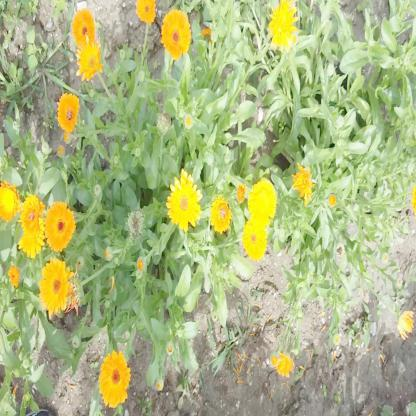marigold: (167, 172, 198, 230), (99, 348, 129, 406), (41, 258, 71, 314), (246, 175, 276, 229), (16, 204, 46, 258), (269, 1, 300, 53), (74, 35, 104, 83), (162, 12, 190, 58), (46, 205, 72, 253), (70, 7, 96, 50), (210, 193, 232, 235), (293, 165, 317, 202), (19, 192, 43, 229), (56, 92, 78, 132), (0, 178, 20, 222), (244, 223, 266, 260), (271, 347, 294, 378), (134, 0, 157, 26)
